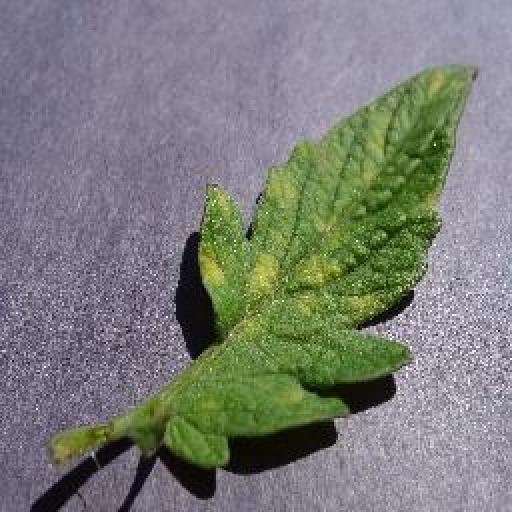Leaf Mold: (134, 61, 476, 468)
